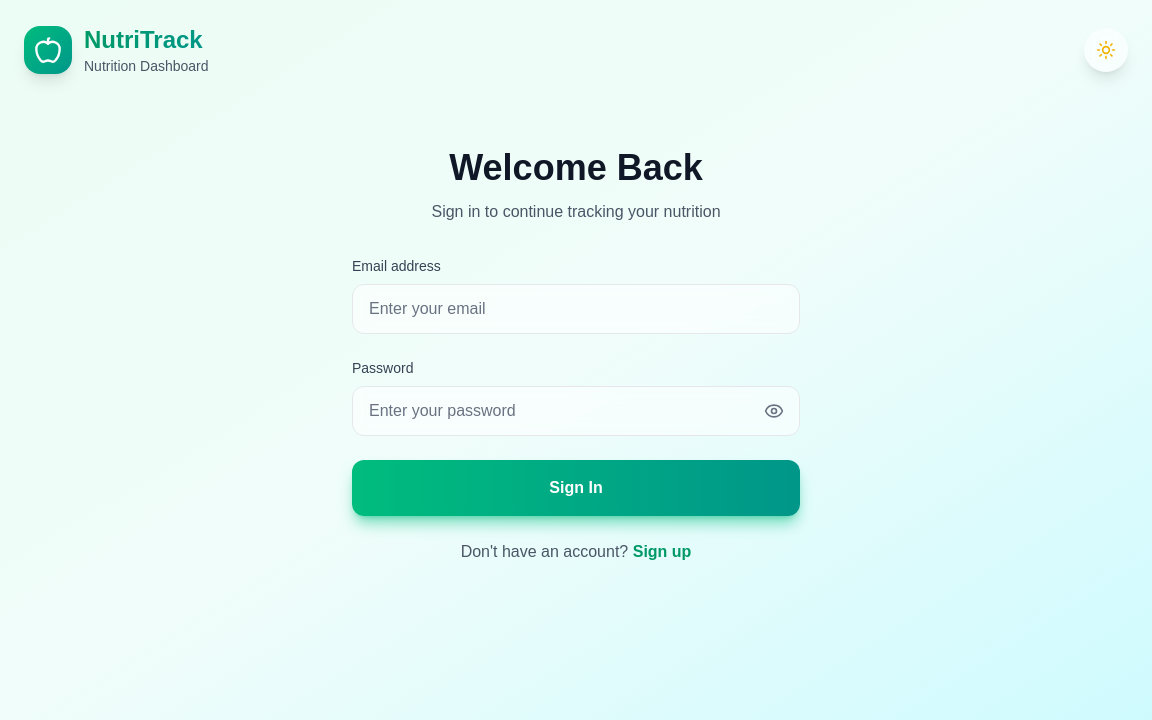
Scenario: Login Page › Form Validation › should show error for empty password
Type "test@example.com" into the field named "email" at [576, 309], box [352, 284, 800, 334]
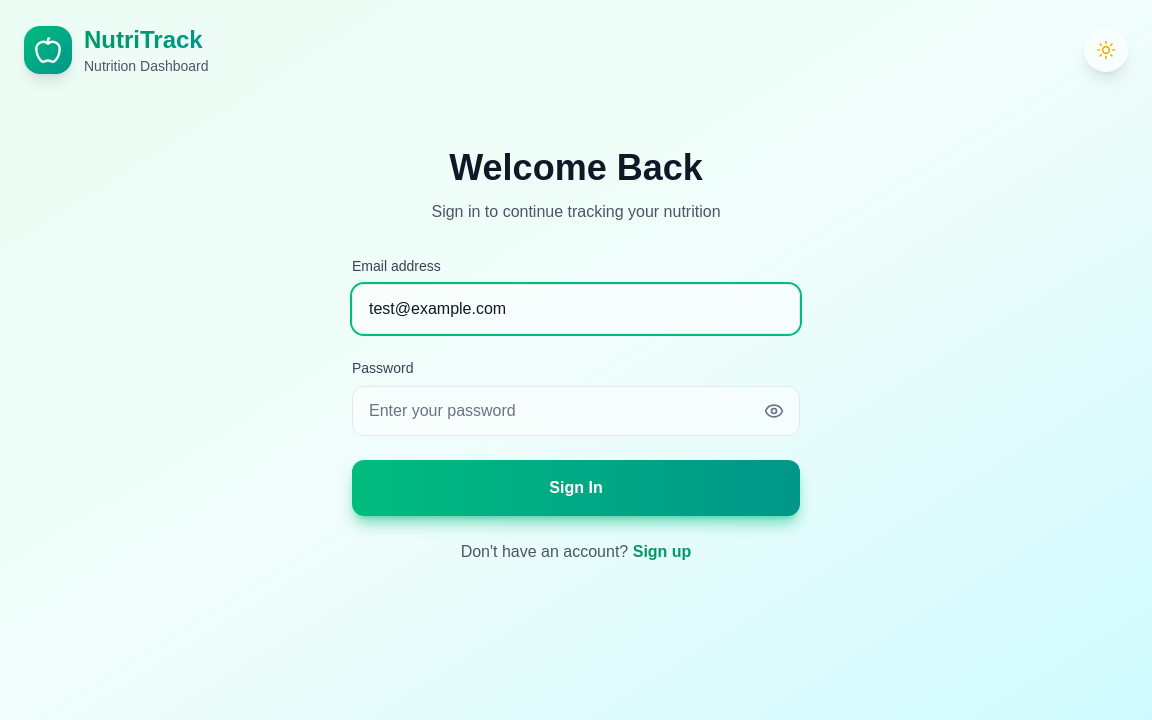
Click the button "Sign In" at [576, 488], box [352, 460, 800, 516]
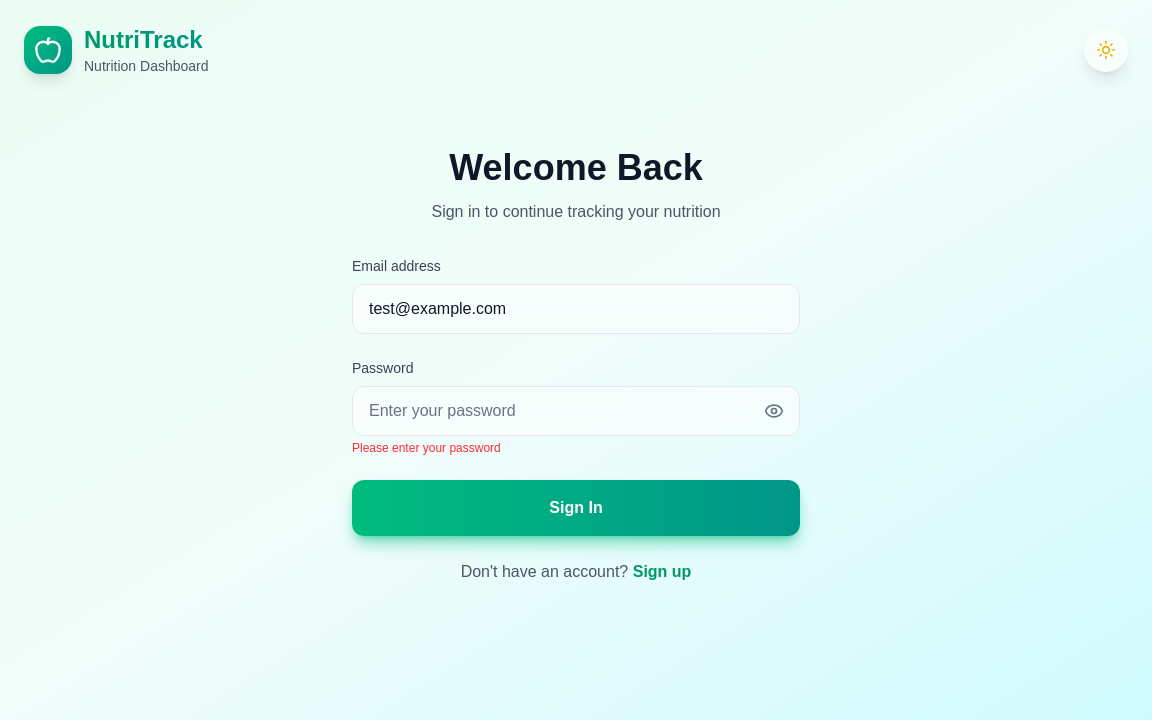
Now the text "Please enter your password" is shown, box [352, 441, 501, 455]
